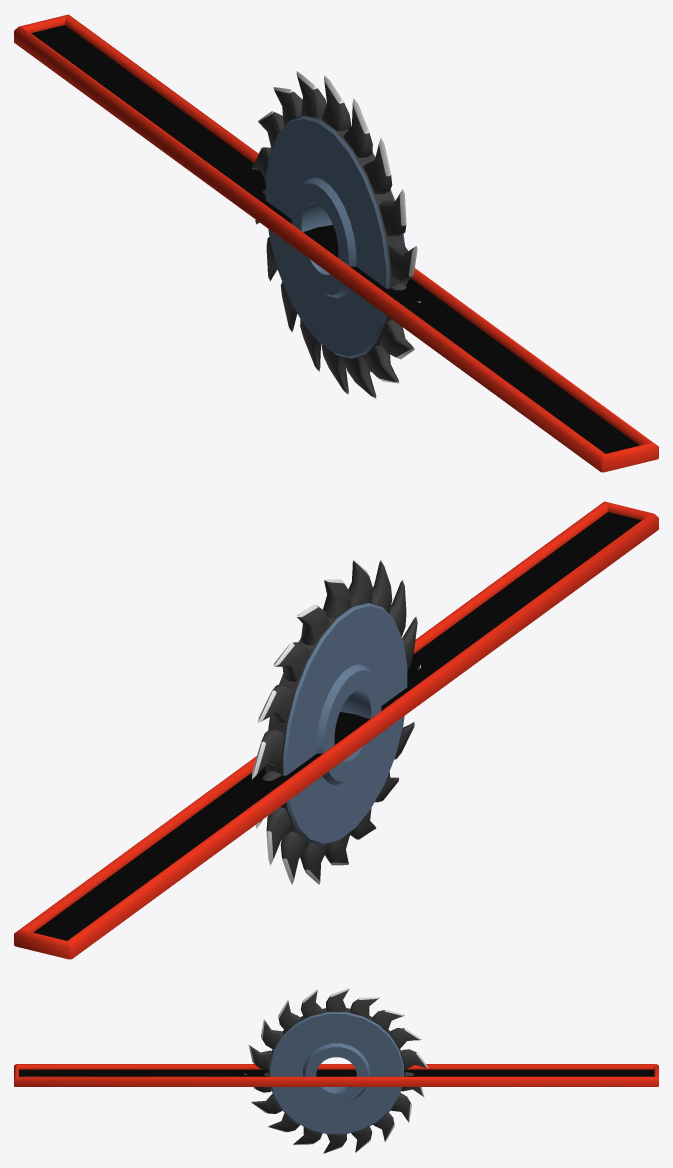
The model's file is Spinning Blade_Prop.fbx.
The picture shows the model from 3 angles, top to bottom: view 1: azimuth 30°, elevation 25°; view 2: azimuth 150°, elevation 25°; view 3: azimuth 270°, elevation 25°; orthographic projection. The views are drawn at different scales.
Visible parts, largest first — view 1: Spinning Blade Rail.001, Spinning Blade; view 2: Spinning Blade Rail.001, Spinning Blade; view 3: Spinning Blade, Spinning Blade Rail.001.
Part boxes in pixels (x1,y1,x2,y2): Spinning Blade Rail.001: (14, 14, 658, 472); Spinning Blade: (252, 71, 420, 399); Spinning Blade Rail.001: (14, 501, 658, 959); Spinning Blade: (252, 560, 420, 884); Spinning Blade: (244, 988, 428, 1153); Spinning Blade Rail.001: (14, 1064, 658, 1086).
Size of the model in its own units: 0.5506 by 2.74 by 9.66.
